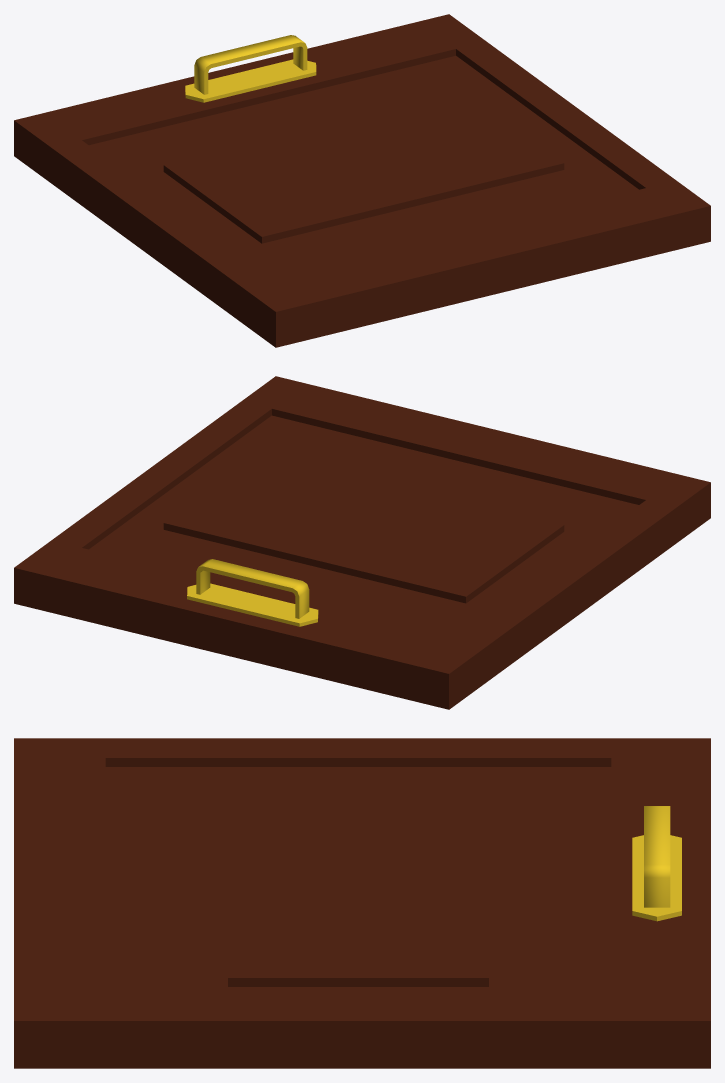
File: trapdoor.gltf
3 renders of one model, top to bottom at view 1: azimuth 30°, elevation 25°; view 2: azimuth 150°, elevation 25°; view 3: azimuth 270°, elevation 25°, orthographic. The views are drawn at different scales.
Visible parts, largest first — view 1: Door 3.001, Door Handle 3.001; view 2: Door 3.001, Door Handle 3.001; view 3: Door 3.001, Door Handle 3.001.
Part boxes in pixels (<box>): Door 3.001: <box>14,14,710,347</box>; Door Handle 3.001: <box>185,35,316,102</box>; Door 3.001: <box>14,376,710,709</box>; Door Handle 3.001: <box>187,559,318,626</box>; Door 3.001: <box>14,738,710,1068</box>; Door Handle 3.001: <box>632,806,681,921</box>.
Bounding box in the file's own units: 1.11 × 0.1664 × 1.15.
Materials: 2 (1 with a texture image).
